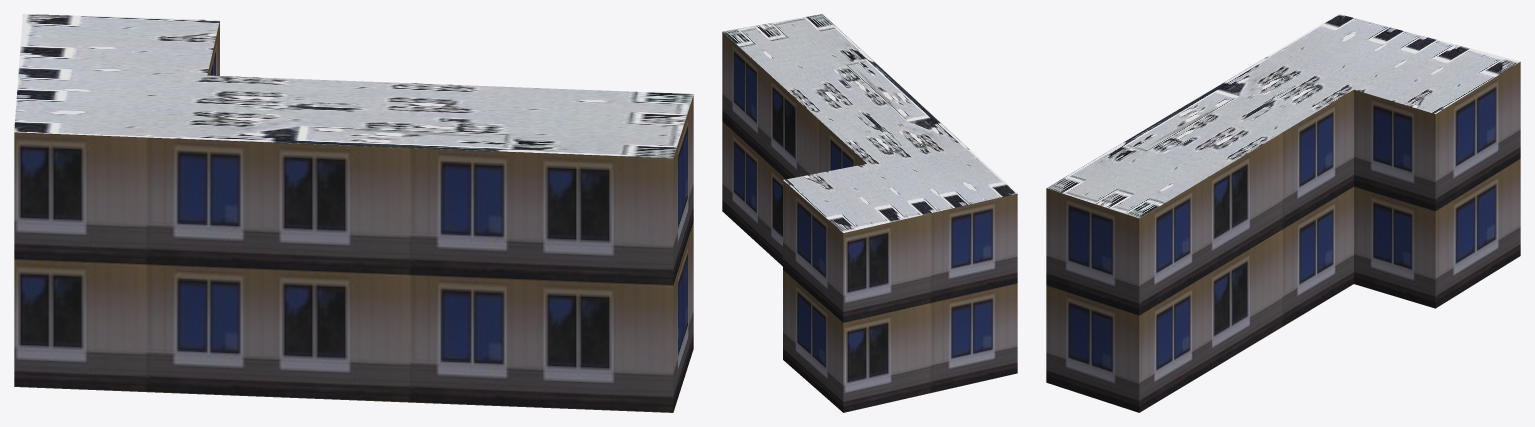
The model's file is ResTex__1069.fbx.
3 views of the same model, side by side, from view 1: azimuth 30°, elevation 25°; view 2: azimuth 150°, elevation 25°; view 3: azimuth 270°, elevation 25° (orthographic). The views are drawn at different scales.
Visible parts, largest first — view 1: CityEngineMaterial_5_m, CityEngineMaterial_m; view 2: CityEngineMaterial_5_m, CityEngineMaterial_m; view 3: CityEngineMaterial_5_m, CityEngineMaterial_m.
Part boxes in pixels (x1,y1,x2,y2): CityEngineMaterial_5_m: [14, 21, 693, 412]; CityEngineMaterial_m: [14, 14, 693, 158]; CityEngineMaterial_5_m: [722, 32, 1017, 412]; CityEngineMaterial_m: [722, 14, 1017, 232]; CityEngineMaterial_5_m: [1046, 62, 1520, 412]; CityEngineMaterial_m: [1047, 14, 1520, 218].
Bounding box in the file's own units: 13.54 × 6 × 13.27.
Materials: 2 (2 with a texture image).
